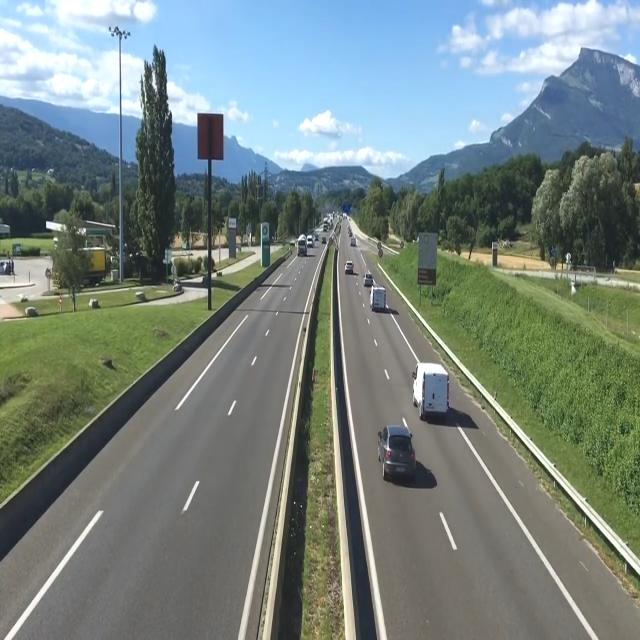Car: (376, 424, 416, 481), (362, 272, 374, 287), (343, 260, 355, 274)
Truck: (370, 287, 388, 311), (296, 234, 306, 257)
Van: (410, 363, 451, 418)
